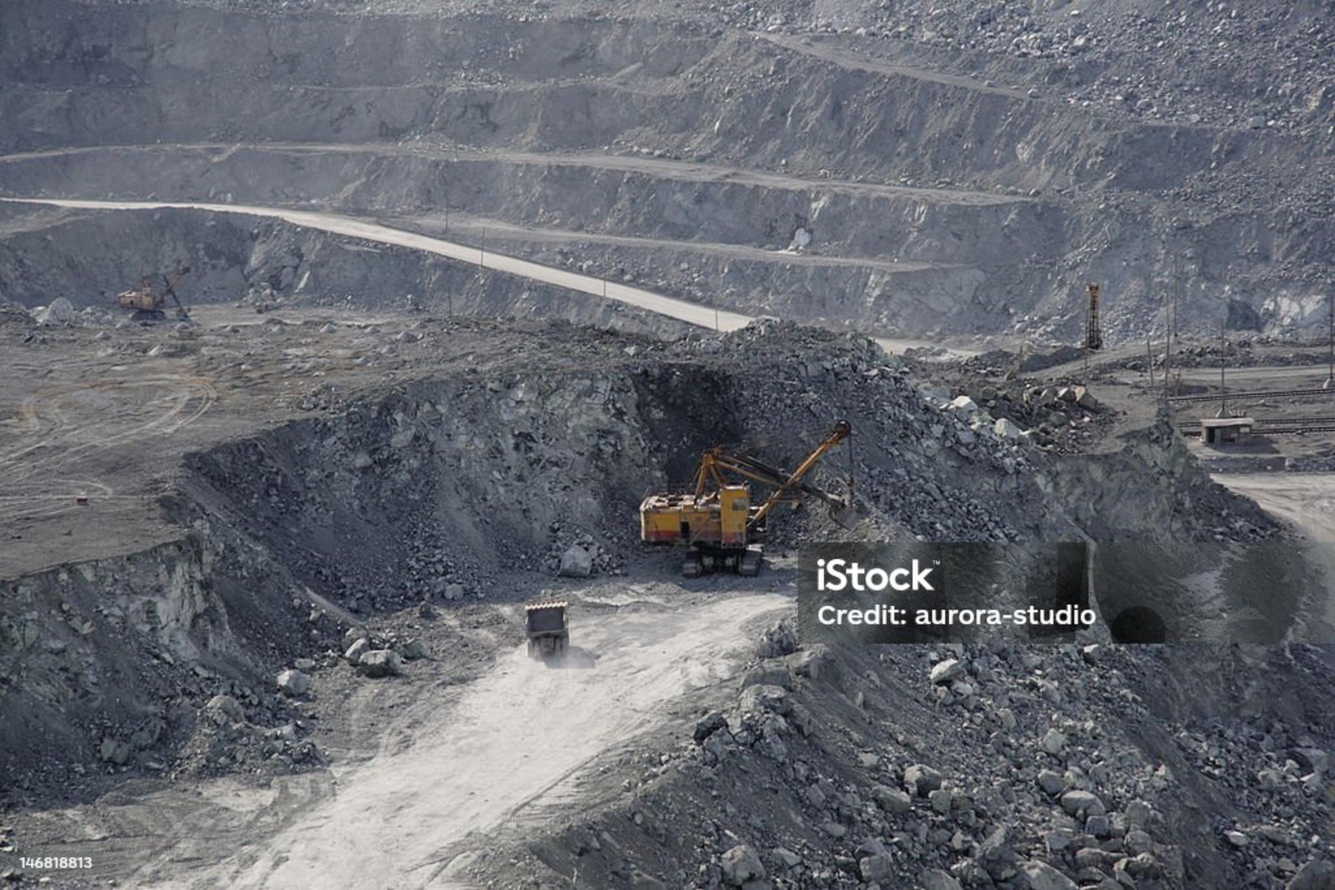benches: (125, 585, 793, 889), (0, 197, 750, 331), (0, 142, 1049, 208), (494, 225, 963, 274)
excavator: (641, 421, 850, 575)
wall: (0, 388, 656, 791)
